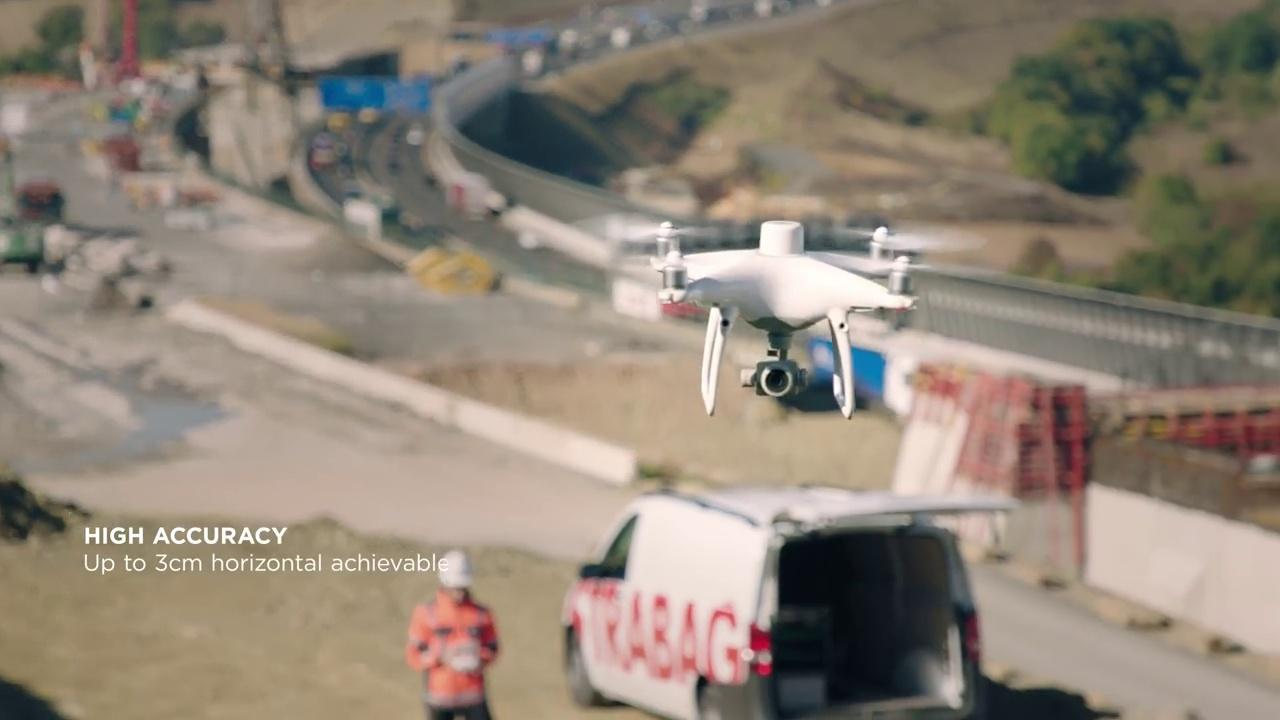drone: (586, 215, 985, 418)
